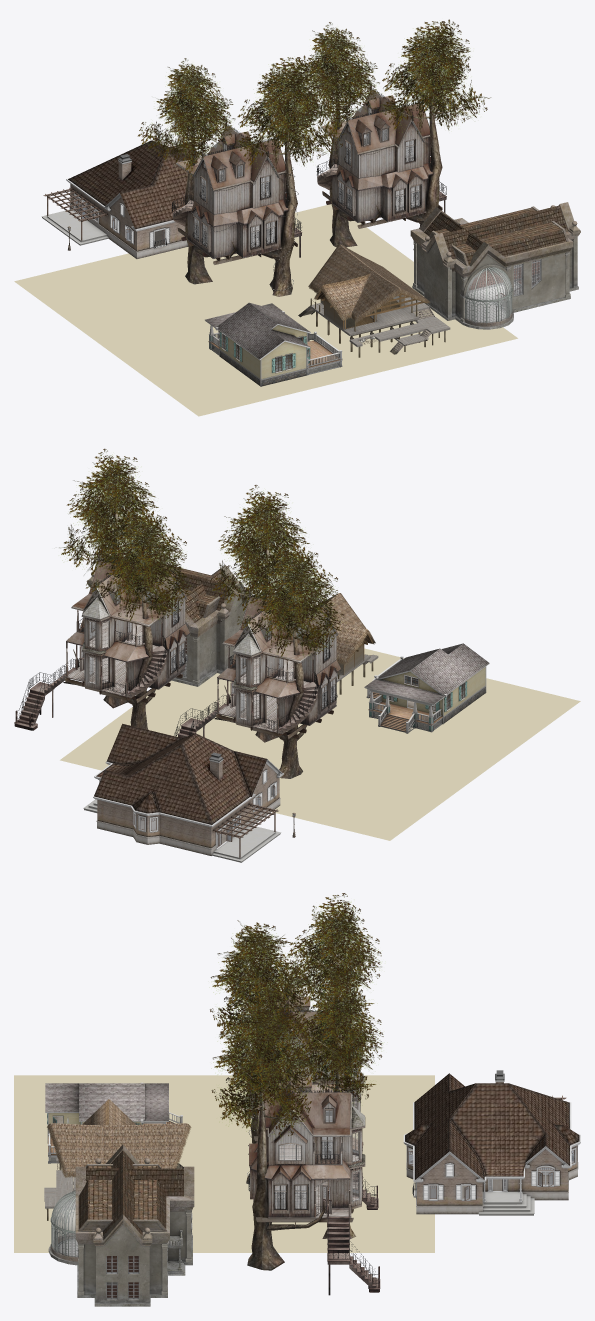
3 renders of one model, top to bottom at view 1: azimuth 30°, elevation 25°; view 2: azimuth 150°, elevation 25°; view 3: azimuth 270°, elevation 25°, orthographic. The views are drawn at different scales.
Parts seen in each view (by area): view 1: Terrain 9,0, dust bunny . acorn treehouse (×2), 22769 - English Country House (×10), prim61-mesh.002 (×2), prim20-mesh.002#8 (×2), ROOST - Bella Vista House (×5), prim0-mesh (×3), Shelter Island Cottage (×5), prim20-mesh.002#16 (×2), prim31-mesh.002#9 (×2); view 2: Terrain 9,0, ROOST - Bella Vista House (×6), prim61-mesh.002 (×2), dust bunny . acorn treehouse (×2), prim20-mesh.002#8 (×2), Shelter Island Cottage (×7), prim20-mesh.002#16 (×2), 22769 - English Country House (×4), prim20-mesh.002#2 (×2), prim31-mesh.002#9 (×2), prim0-mesh, prim7-mesh.002#17 (×2) (+4 smaller); view 3: Terrain 9,0, dust bunny . acorn treehouse (×2), ROOST - Bella Vista House (×4), 22769 - English Country House (×11), prim61-mesh.002 (×2), prim20-mesh.002#8 (×2), prim0-mesh (×2), Shelter Island Cottage (×2), prim20-mesh.002#16 (×2), prim31-mesh.002#9, prim0-mesh.002#14, Bella Vista House (+2 smaller).
Part boxes in pixels (left/top/right/bottom): Terrain 9,0: left=14, top=204, right=517, bottom=416; dust bunny . acorn treehouse (×2): left=230, top=19, right=490, bottom=296; 22769 - English Country House (×10): left=412, top=205, right=578, bottom=329; prim61-mesh.002 (×2): left=137, top=22, right=381, bottom=284; prim20-mesh.002#8 (×2): left=176, top=90, right=432, bottom=258; ROOST - Bella Vista House (×5): left=41, top=140, right=198, bottom=258; prim0-mesh (×3): left=308, top=244, right=450, bottom=347; Shelter Island Cottage (×5): left=216, top=302, right=342, bottom=386; prim20-mesh.002#16 (×2): left=187, top=122, right=430, bottom=244; prim31-mesh.002#9 (×2): left=192, top=95, right=431, bottom=224; Terrain 9,0: left=60, top=648, right=580, bottom=840; ROOST - Bella Vista House (×6): left=93, top=723, right=283, bottom=862; prim61-mesh.002 (×2): left=63, top=513, right=343, bottom=778; dust bunny . acorn treehouse (×2): left=59, top=448, right=323, bottom=742; prim20-mesh.002#8 (×2): left=66, top=559, right=340, bottom=718; Shelter Island Cottage (×7): left=364, top=643, right=489, bottom=733; prim20-mesh.002#16 (×2): left=84, top=586, right=336, bottom=726; 22769 - English Country House (×4): left=109, top=555, right=247, bottom=680; prim20-mesh.002#2 (×2): left=84, top=617, right=260, bottom=720; prim31-mesh.002#9 (×2): left=80, top=568, right=338, bottom=685; prim0-mesh: left=312, top=593, right=375, bottom=665; prim7-mesh.002#17 (×2): left=126, top=645, right=317, bottom=733; Terrain 9,0: left=14, top=1075, right=434, bottom=1252; dust bunny . acorn treehouse (×2): left=210, top=920, right=325, bottom=1270; ROOST - Bella Vista House (×4): left=403, top=1073, right=580, bottom=1214; 22769 - English Country House (×11): left=48, top=1150, right=194, bottom=1306; prim61-mesh.002 (×2): left=287, top=893, right=383, bottom=1238; prim20-mesh.002#8 (×2): left=248, top=988, right=365, bottom=1217; prim0-mesh (×2): left=45, top=1099, right=191, bottom=1208; Shelter Island Cottage (×2): left=45, top=1082, right=168, bottom=1122; prim20-mesh.002#16 (×2): left=265, top=1028, right=361, bottom=1207; prim31-mesh.002#9: left=249, top=1072, right=358, bottom=1180; prim0-mesh.002#14: left=327, top=1216, right=380, bottom=1295; Bella Vista House: left=478, top=1191, right=534, bottom=1215.
Size of what is drawn, in the model's own units: 83.47 by 45.62 by 86.23.
Materials: 296 (294 with a texture image).
